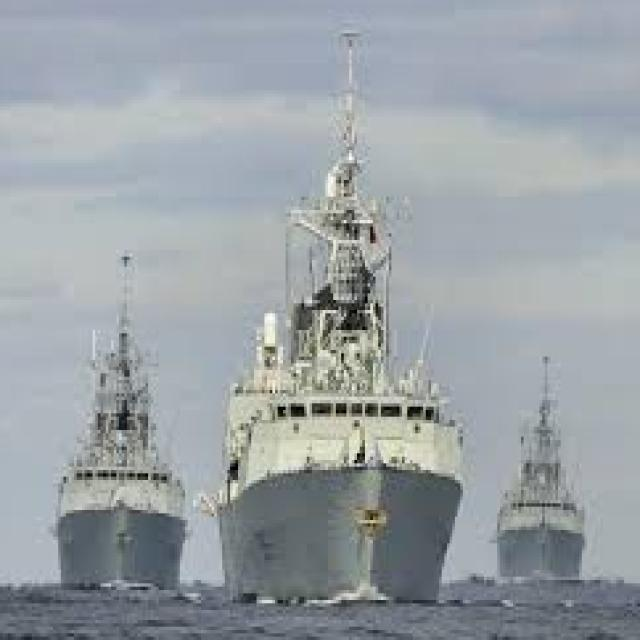navalvessels: (205, 46, 470, 627), (25, 266, 196, 595), (467, 353, 588, 576)
